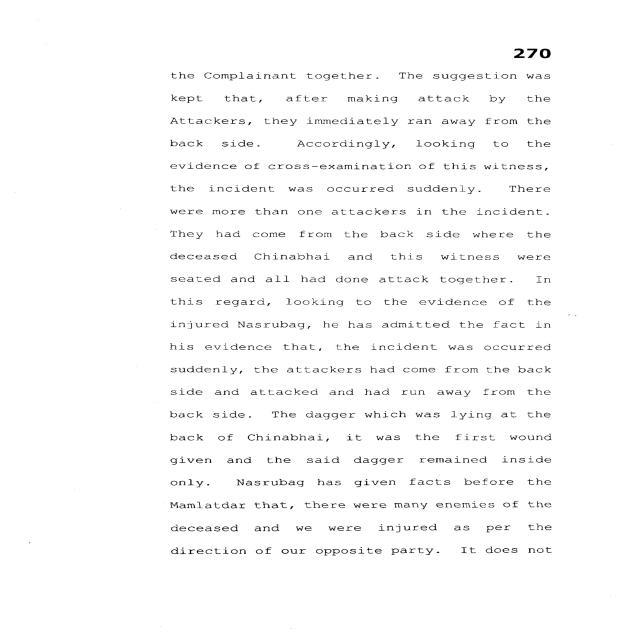page-number: (428, 0, 636, 66)
